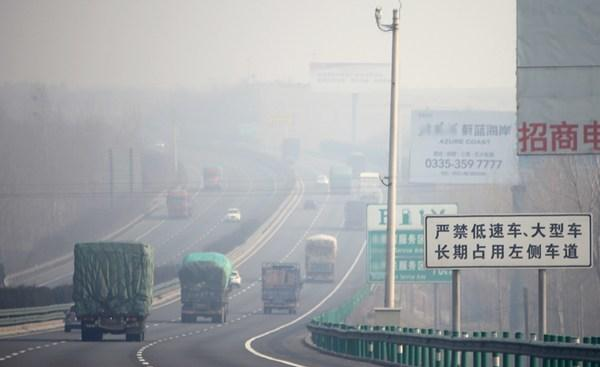bus: (70, 241, 155, 342), (177, 252, 232, 323), (259, 261, 304, 314), (304, 235, 337, 282), (343, 199, 372, 232), (166, 189, 192, 218), (328, 164, 352, 194), (200, 164, 224, 192), (357, 170, 381, 195), (280, 136, 300, 162), (345, 152, 367, 175)
car: (61, 302, 95, 331), (220, 269, 242, 288), (224, 207, 240, 221), (313, 175, 329, 189), (304, 198, 319, 210)
